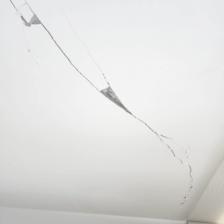Medium: (22, 8, 173, 148)
